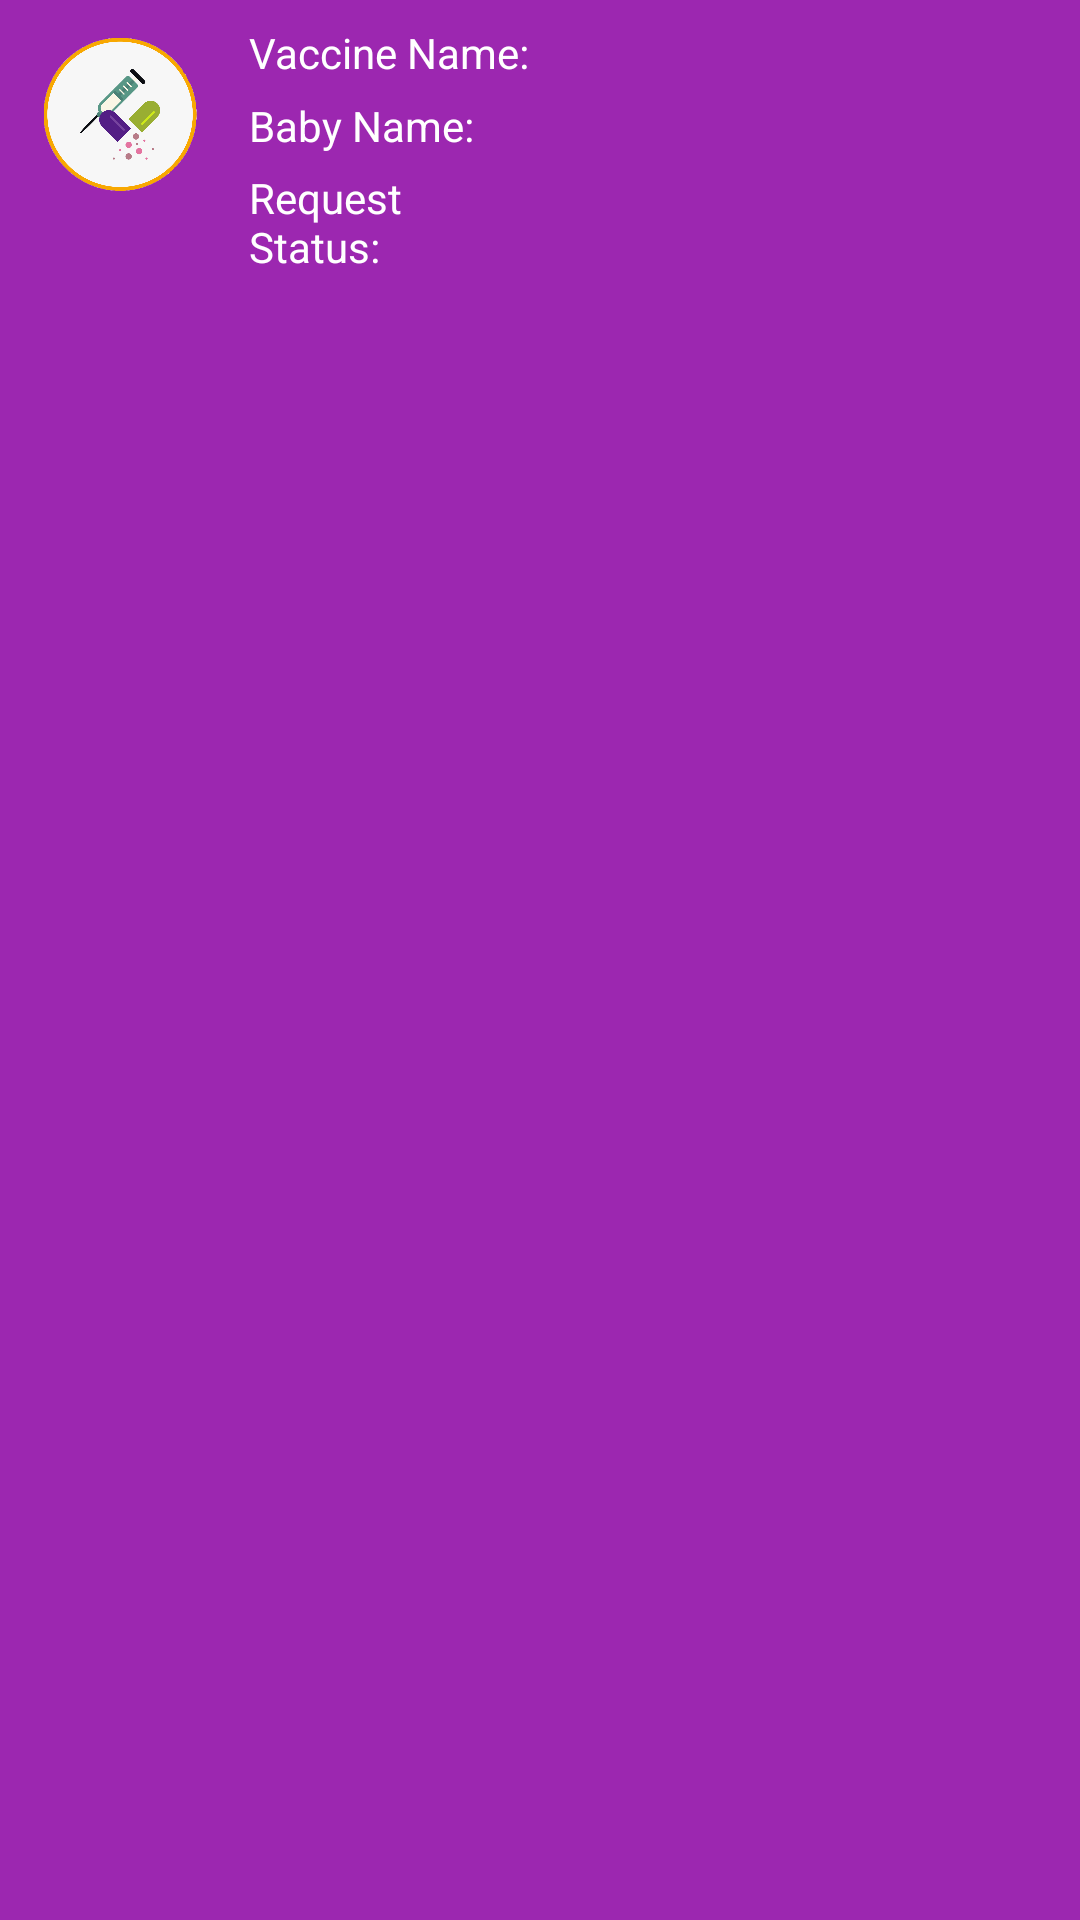

Named icons in this screenshot (1080×1920) and their bounding boxes, (x1, y1, x2, y2):
dose: (44, 38, 197, 191)
